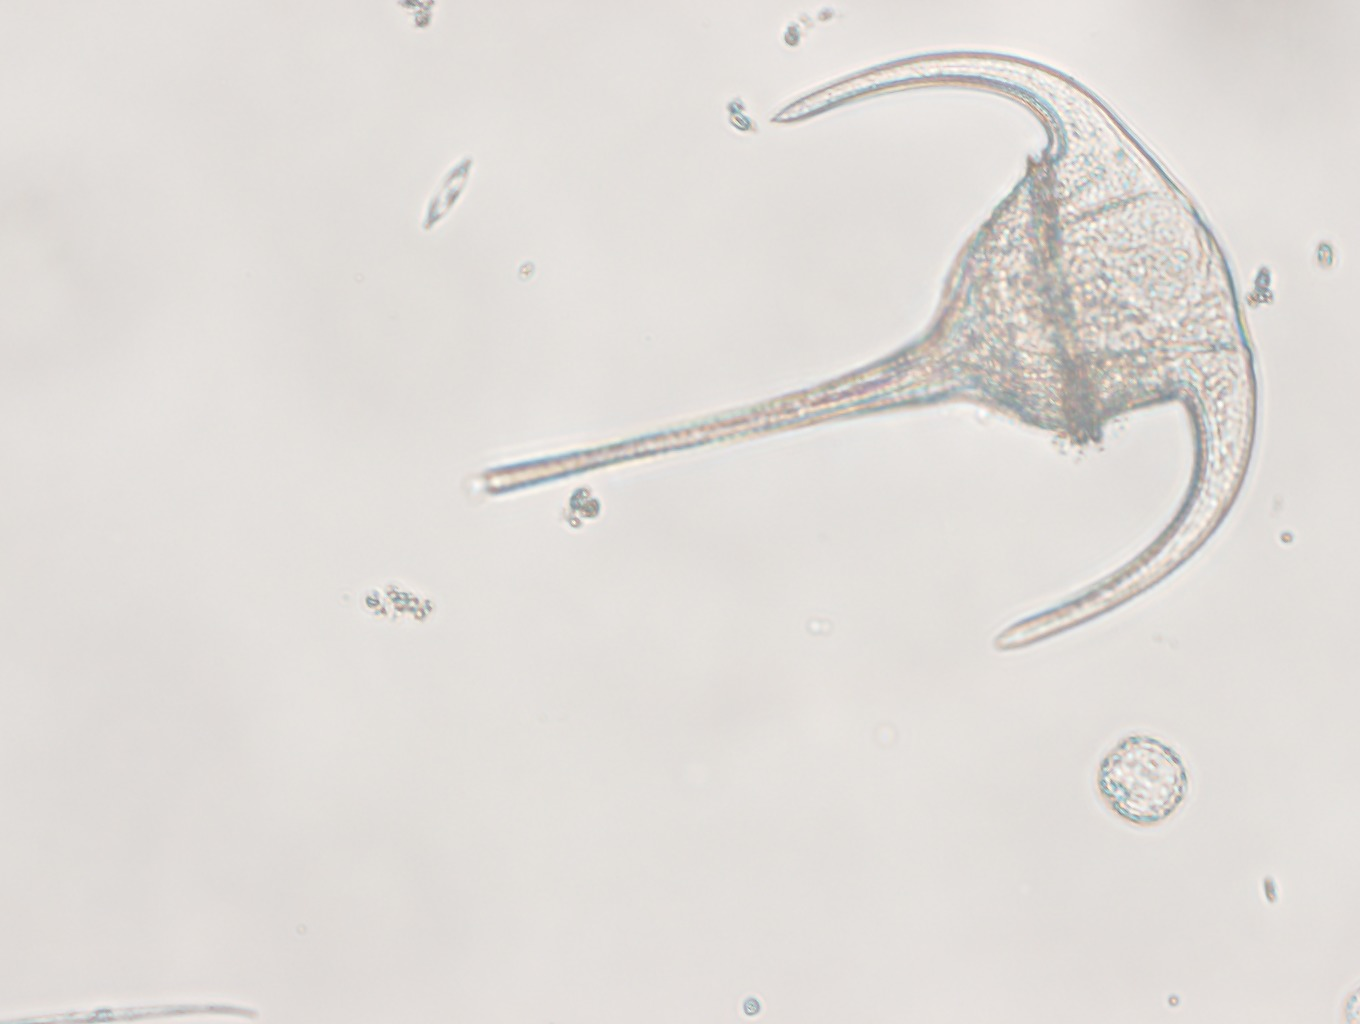ceratium tripos: (479, 48, 1259, 651)
